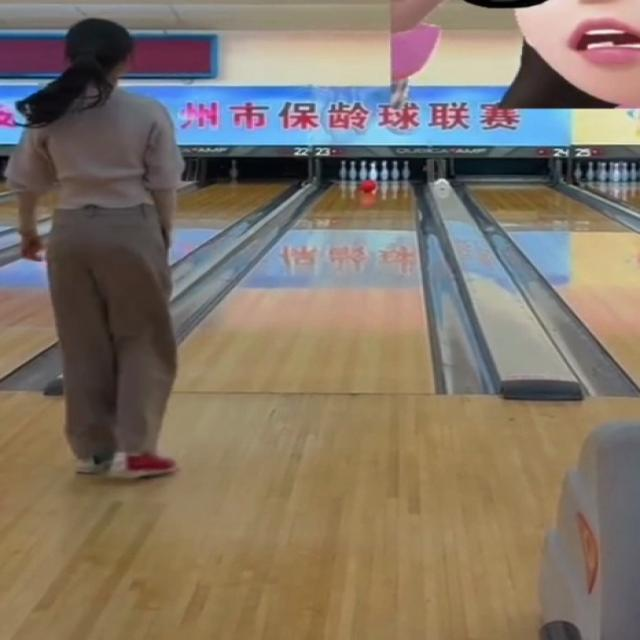alley: (181, 184, 431, 393)
balls: (360, 180, 376, 197)
bottle: (339, 160, 413, 183)
